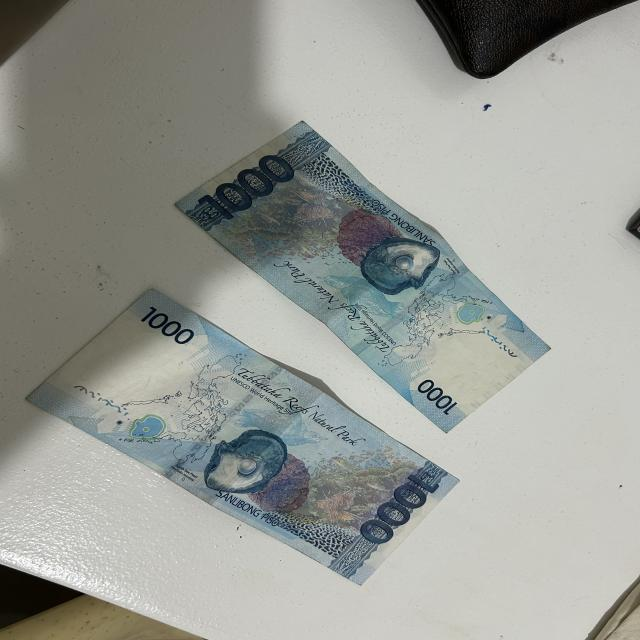1000_pearl: (203, 427, 278, 499), (362, 242, 438, 291)
1000_pearl_watermark: (132, 412, 172, 444), (446, 303, 489, 327)
